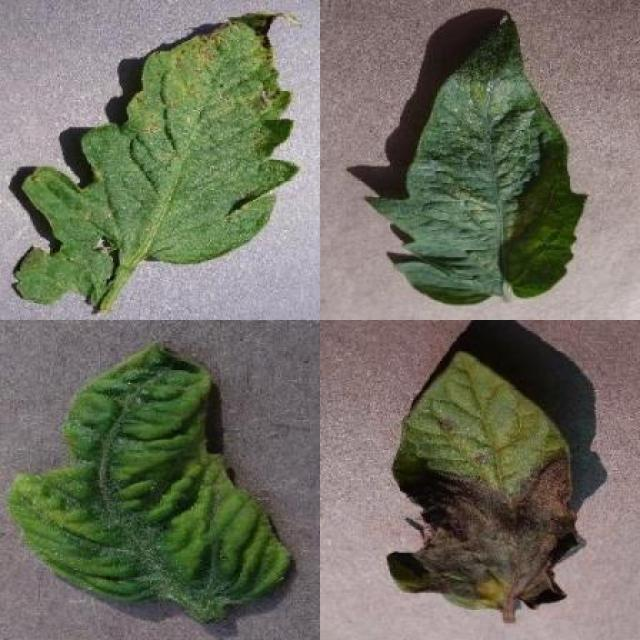Late Blight: (384, 350, 587, 610)
Septoria: (5, 10, 299, 303)
Spider Mites: (364, 18, 590, 306)
Yellow Leaf Curl Virus: (7, 336, 292, 611)
